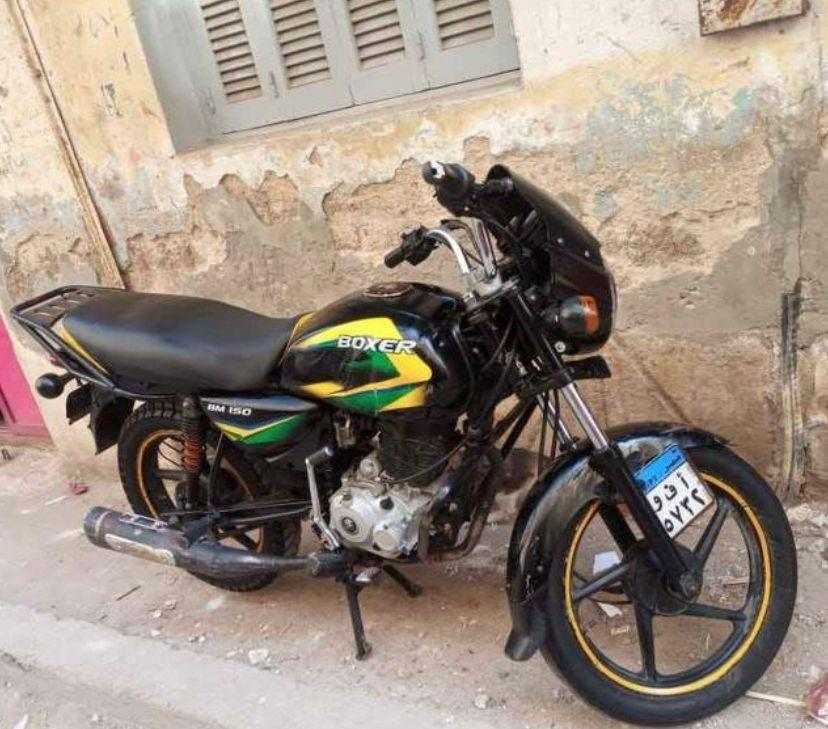License Plate: (632, 449, 713, 540)
